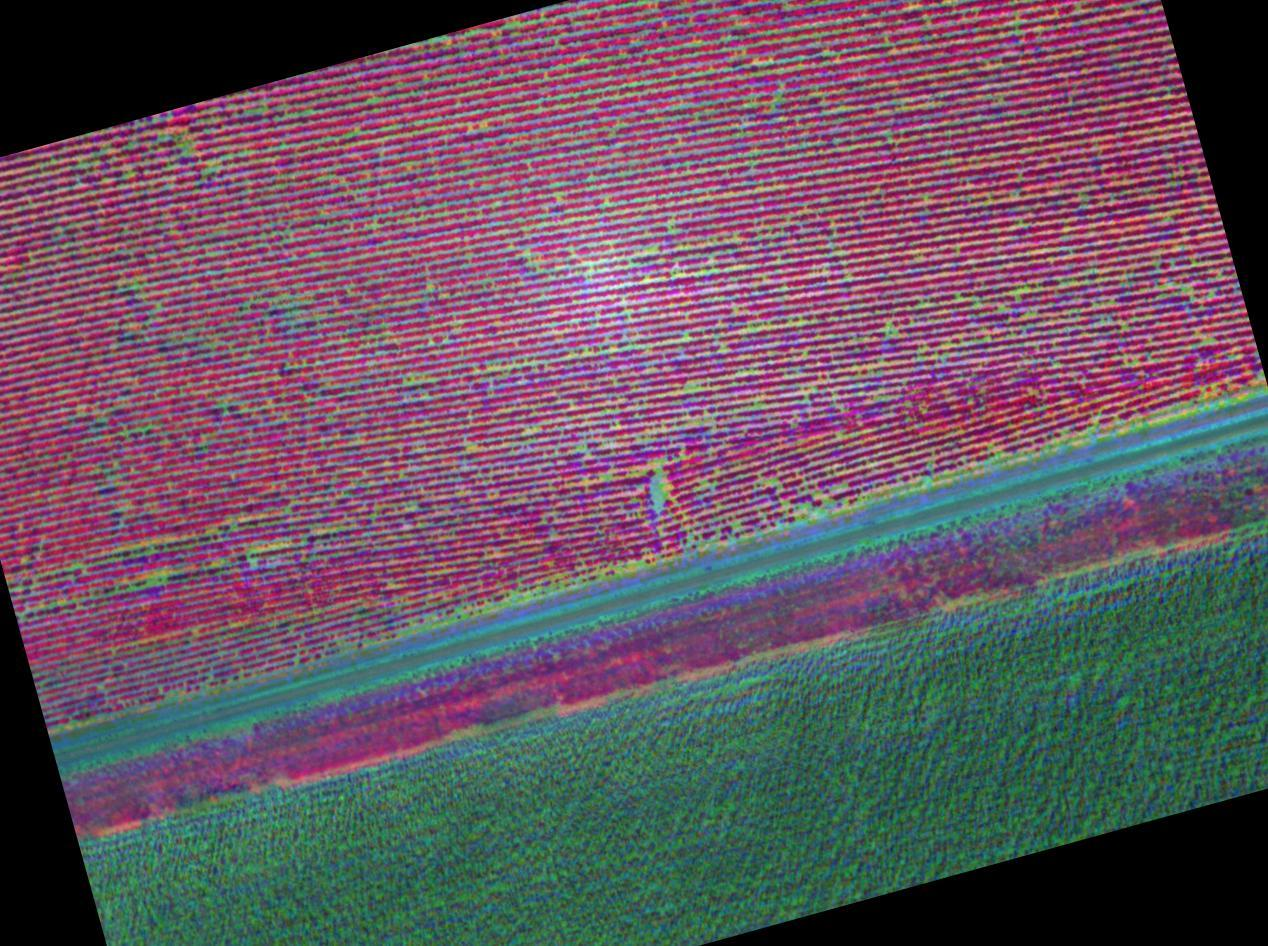dc: (579, 442, 586, 451), (466, 444, 476, 450), (73, 560, 79, 568)
